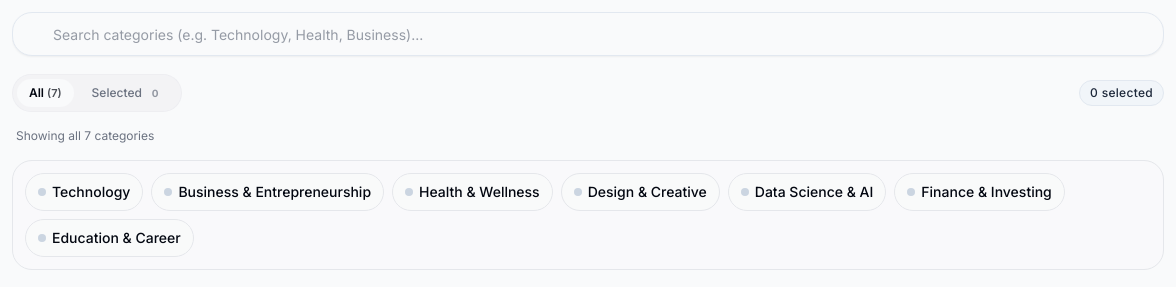
it: CategorySelector Component Integration › handles whitespace in search query correctly
Type "   design   " into the field labelled "Search categories (e.g. Technology, Health, Business)..." at point(588, 34), box [12,12,1164,56]
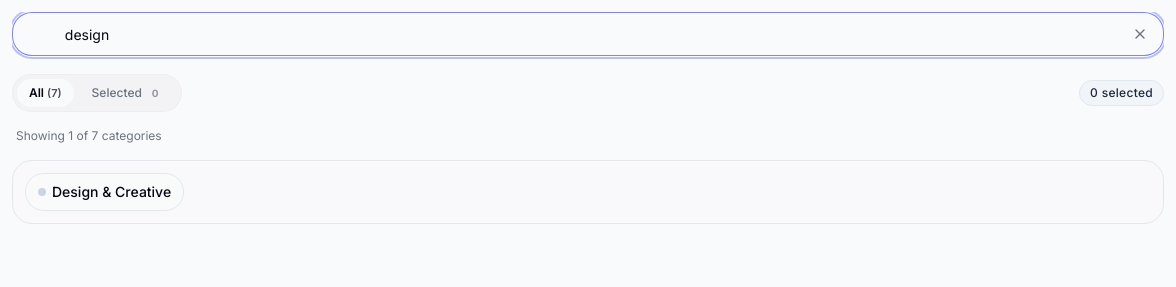
Expected: the text "Design & Creative" is shown, [52,182,171,202]
Expected: the button "Technology" is gone
